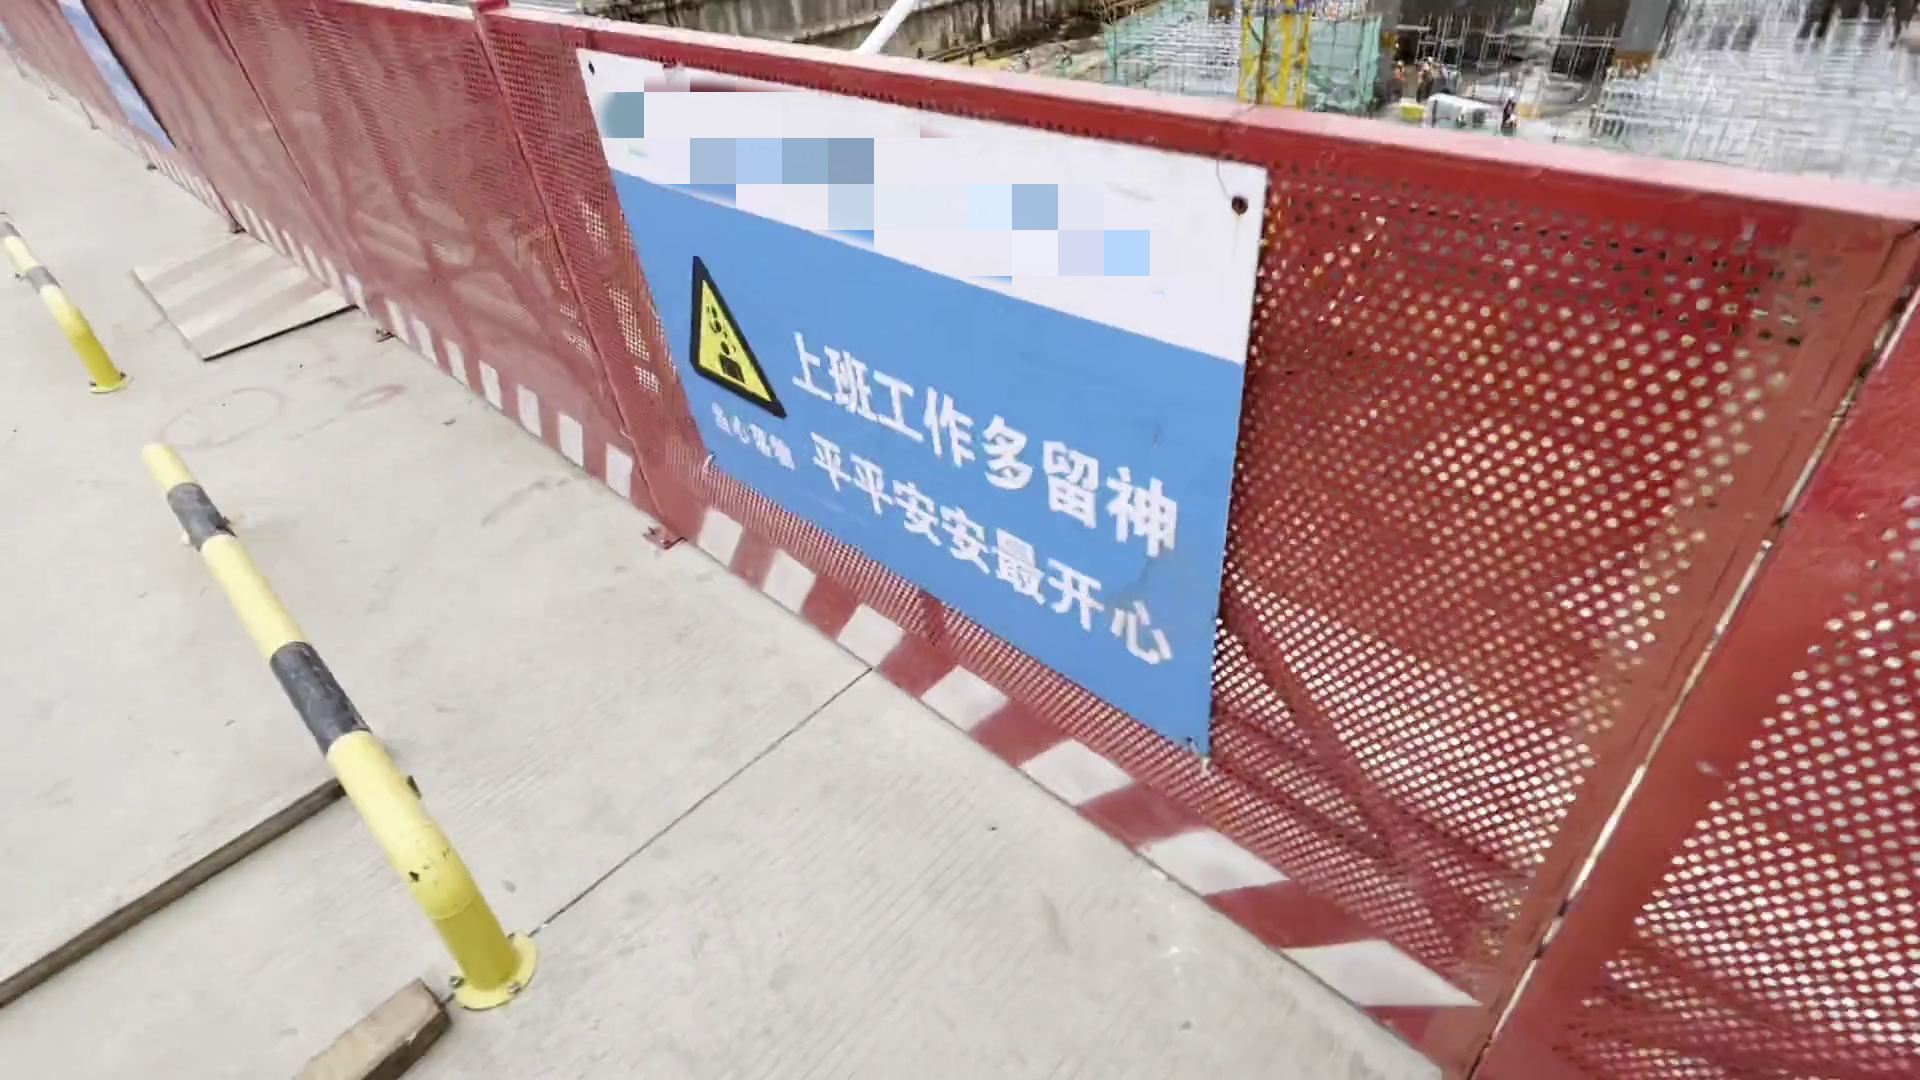fence: (1220, 160, 1920, 1075), (1, 1, 665, 559)
slogan: (674, 224, 1207, 704)
